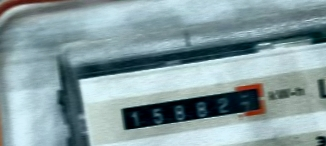1: (129, 108, 141, 127)
2: (216, 94, 228, 112)
5: (149, 105, 163, 123)
7: (238, 98, 251, 112)
8: (172, 101, 185, 120), (195, 99, 207, 116)
screen: (113, 78, 271, 135)
